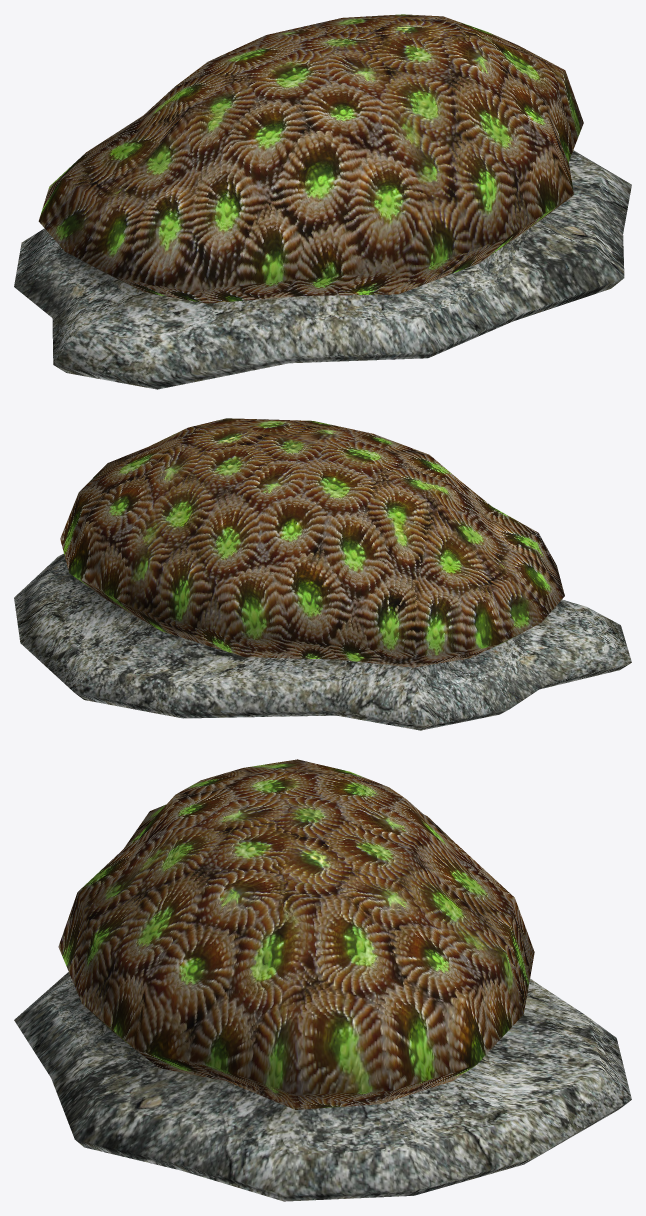
File: honeycomb coral_v2.FBX
3 renders of one model, top to bottom at view 1: azimuth 30°, elevation 25°; view 2: azimuth 150°, elevation 25°; view 3: azimuth 270°, elevation 25°, orthographic. The views are drawn at different scales.
Visible parts, largest first — view 1: coral honeycomb_v2; view 2: coral honeycomb_v2; view 3: coral honeycomb_v2.
Part boxes in pixels (x1,y1,x2,y2): coral honeycomb_v2: (14, 14, 631, 389); coral honeycomb_v2: (14, 418, 631, 730); coral honeycomb_v2: (14, 759, 631, 1201).
Bounding box in the file's own units: 19.45 × 15.04 × 6.62.
1 material, 1 textured.
